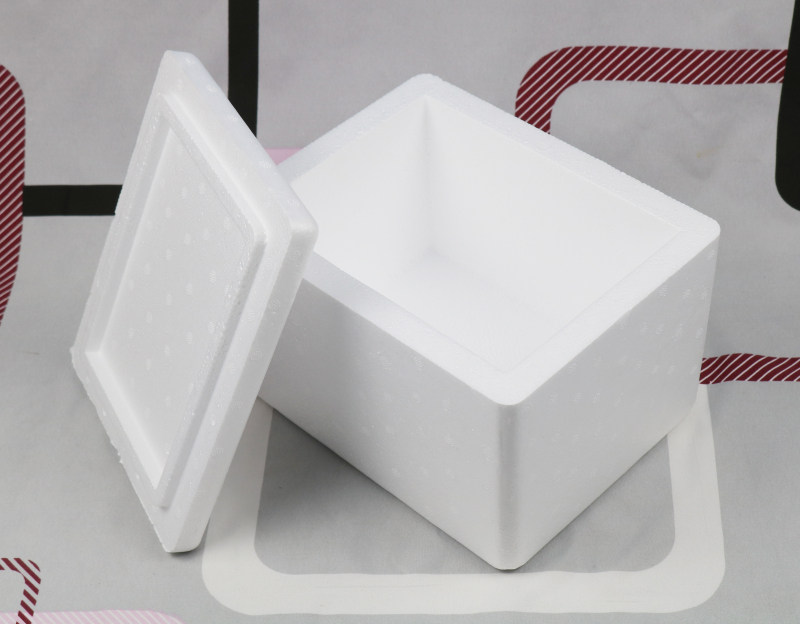Boxes: (72, 53, 719, 568)
